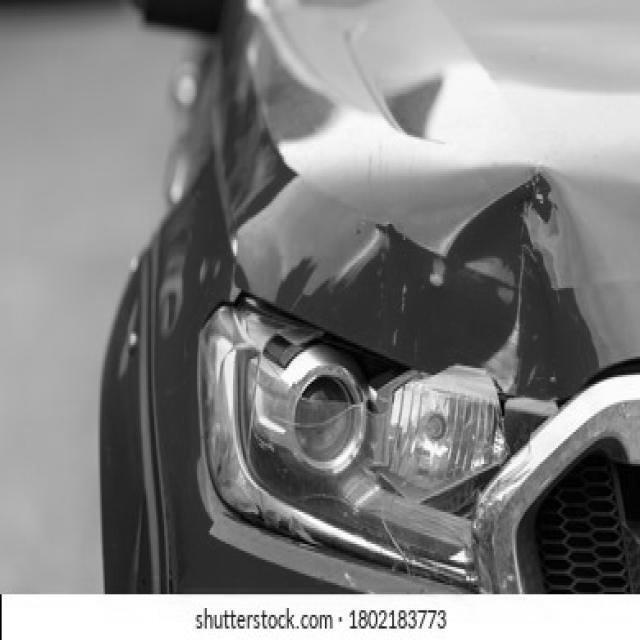Headlight-damage: (203, 325, 517, 575)
bonnet-dent: (239, 135, 640, 367)
